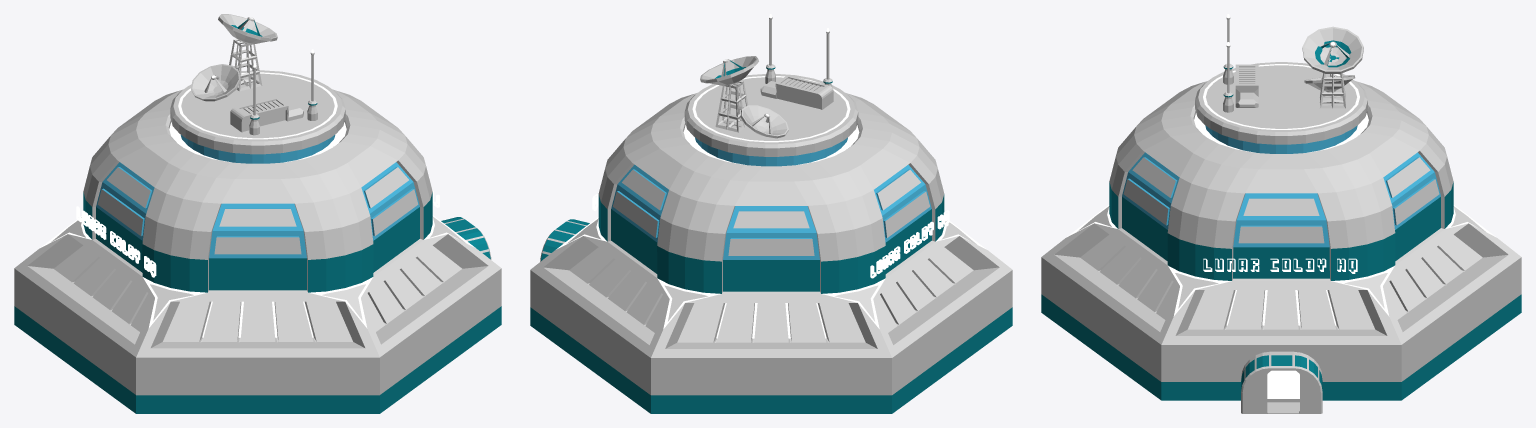
3 renders of one model, left to right at view 1: azimuth 30°, elevation 25°; view 2: azimuth 150°, elevation 25°; view 3: azimuth 270°, elevation 25°, orthographic.
Parts seen in each view (by area): view 1: Circle.003; view 2: Circle.003; view 3: Circle.003.
Boxes of the visible parts, x1,y1,x2,y2 form: Circle.003: [14, 14, 501, 413]; Circle.003: [530, 14, 1012, 413]; Circle.003: [1041, 14, 1521, 413].
Bounding box in the file's own units: 1803 × 1251 × 1918.
